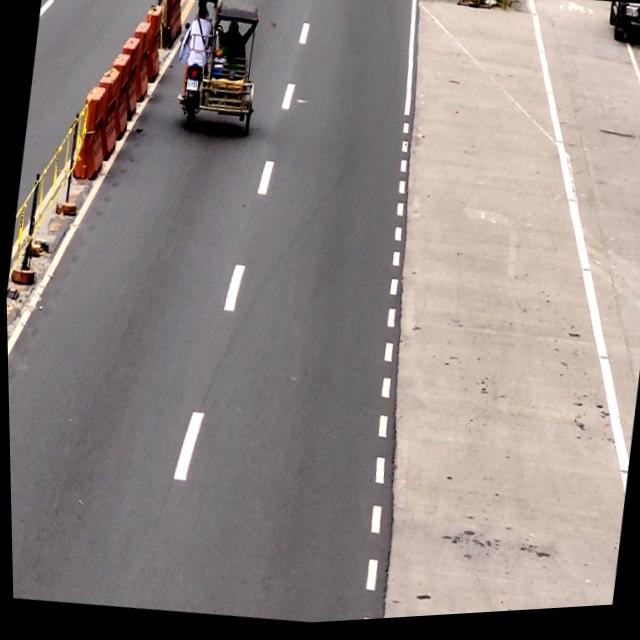License-Plate: (183, 77, 201, 99)
Tricycle: (164, 0, 275, 144)
